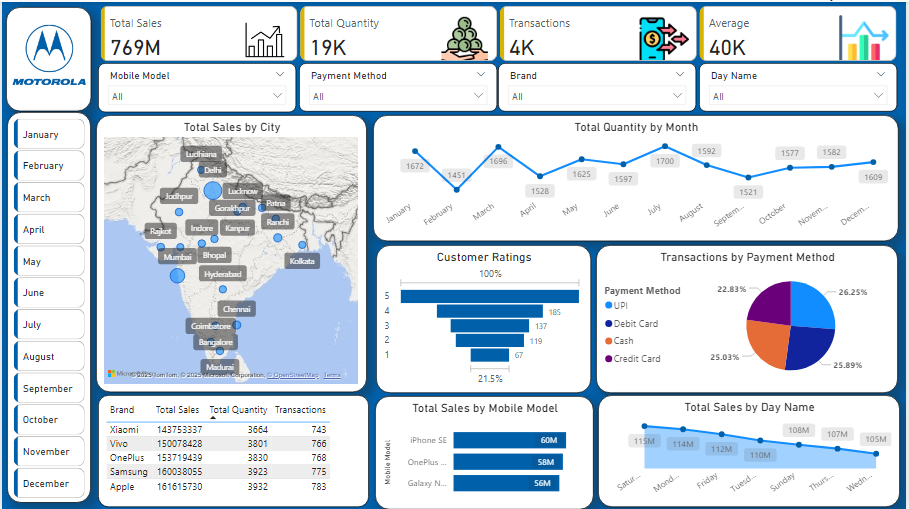

Layout of this report page (visuals, bound fields, positions):
{"tool":"powerbi","page":{"name":"Page 1","canvas":[1280,720],"ordinal":0},"visuals":[{"type":"shape","box":[5.5,6.9,120.8,148.2],"z":0},{"type":"image","box":[9.6,16.5,113.9,116.6],"z":1000},{"type":"shape","box":[6.9,156.4,119.4,554.4],"z":2000},{"type":"advancedSlicerVisual","fields":{"Values":["Sales_Data.Date.Variation.Date Hierarchy.Month"]},"box":[11,160.5,111.1,548.9],"z":3000},{"type":"cardVisual","fields":{"Data":["Sales_Data.Total Sales","Sales_Data.Total Quantity","Sales_Data.Transactions","Sales_Data.Average"]},"box":[134,5.6,1140.1,83.7],"z":4000},{"type":"map","fields":{"Category":["Sales_Data.City"],"Size":["Sales_Data.Total Sales"]},"box":[132.9,160.8,384.1,393.1],"z":5000},{"type":"lineChart","fields":{"Y":["Sales_Data.Total Quantity"],"Category":["Sales_Data.Date.Variation.Date Hierarchy.Month","Sales_Data.Date.Variation.Date Hierarchy.Day"]},"box":[525.9,160.8,744.8,178.7],"z":6000},{"type":"clusteredBarChart","fields":{"Category":["Sales_Data.Mobile Model"],"Y":["Sales_Data.Total Sales"]},"box":[528.3,558.5,310.1,160.5],"z":7000},{"type":"pieChart","fields":{"Category":["Sales_Data.Payment Method"],"Y":["Sales_Data.Transactions"]},"box":[842.5,344.4,428.1,209.9],"z":8000},{"type":"funnel","title":"Customer Ratings","fields":{"Category":["Sales_Data.Customer Ratings"],"Y":["Sum(Sales_Data.Customer Ratings)"]},"box":[529.7,344.4,304.6,209.9],"z":9000},{"type":"areaChart","fields":{"Category":["Sales_Data.Day Name"],"Y":["Sales_Data.Total Sales"]},"box":[845.3,557.1,428.1,159.2],"z":10000},{"type":"tableEx","fields":{"Values":["Sales_Data.Brand","Sales_Data.Total Sales","Sales_Data.Total Quantity","Sales_Data.Transactions"]},"box":[135.8,557.1,384.2,159.2],"z":11000},{"type":"slicer","fields":{"Values":["Sales_Data.Mobile Model"]},"box":[136.2,87.1,281.4,70.3],"z":12000},{"type":"slicer","fields":{"Values":["Sales_Data.Payment Method"]},"box":[421,87.1,281.4,69.2],"z":13000},{"type":"slicer","fields":{"Values":["Sales_Data.Brand"]},"box":[703.5,87.1,281.4,69.2],"z":14000},{"type":"slicer","fields":{"Values":["Sales_Data.Day Name"]},"box":[988.2,87.1,281.4,69.2],"z":15000}]}

Visuals, with their boxes in screenshot pixels (x1, y1, x2, y2), scaled from the page's 1280x720 canvas onto the 909x509 screenshot:
shape: 4,5,90,110
image: 7,12,88,94
shape: 5,111,90,502
advancedSlicerVisual - Sales_Data.Date.Variation.Date Hierarchy.Month: 8,113,87,502
cardVisual - Sales_Data.Total Sales x Sales_Data.Total Quantity: 95,4,905,63
map - Sales_Data.City x Sales_Data.Total Sales: 94,114,367,392
lineChart - Sales_Data.Total Quantity x Sales_Data.Date.Variation.Date Hierarchy.Month: 373,114,902,240
clusteredBarChart - Sales_Data.Mobile Model x Sales_Data.Total Sales: 375,395,595,508
pieChart - Sales_Data.Payment Method x Sales_Data.Transactions: 598,243,902,392
"Customer Ratings" funnel: 376,243,592,392
areaChart - Sales_Data.Day Name x Sales_Data.Total Sales: 600,394,904,506
tableEx - Sales_Data.Brand x Sales_Data.Total Sales: 96,394,369,506
slicer - Sales_Data.Mobile Model: 97,62,297,111
slicer - Sales_Data.Payment Method: 299,62,499,110
slicer - Sales_Data.Brand: 500,62,699,110
slicer - Sales_Data.Day Name: 702,62,902,110
